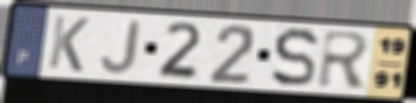2: (208, 22, 260, 86), (156, 21, 203, 81)
J: (99, 19, 143, 76)
K: (45, 13, 92, 75)
R: (315, 28, 372, 90)
S: (269, 26, 321, 90)
